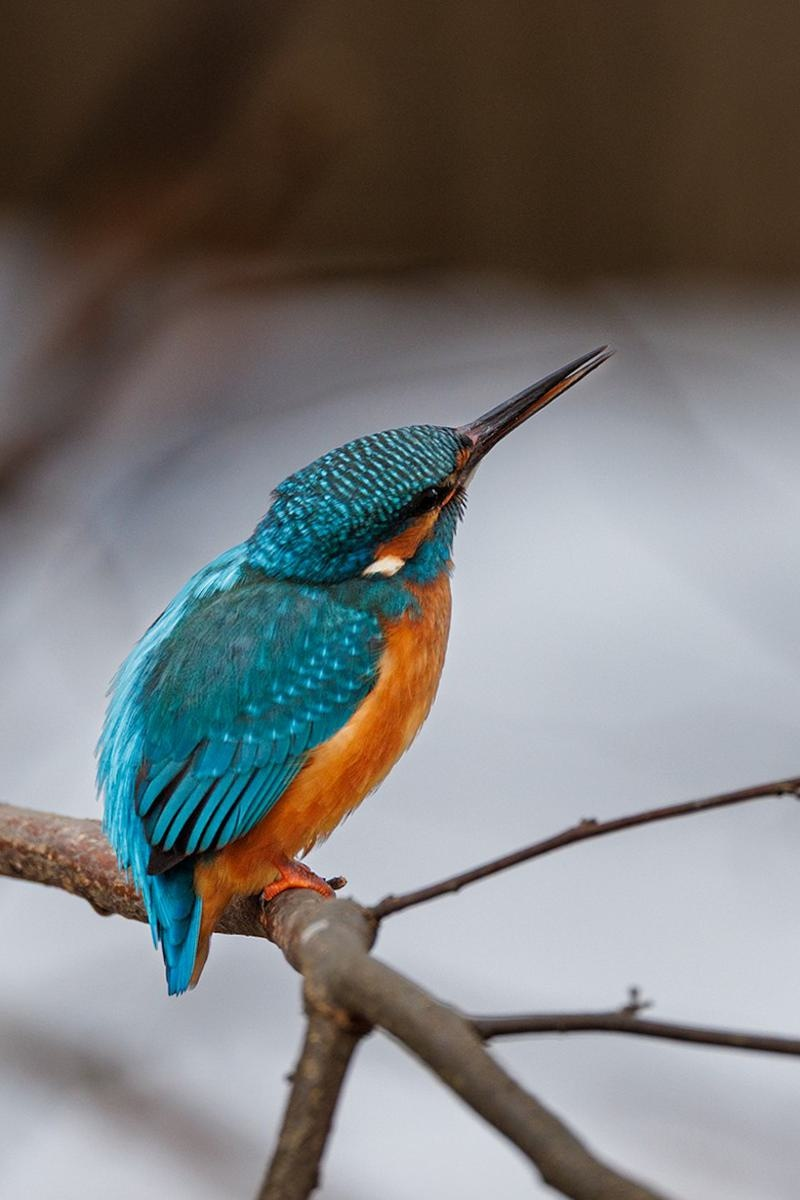kingfisher: (75, 330, 627, 1013)
